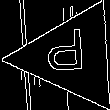P_S: (49, 30, 94, 83)
